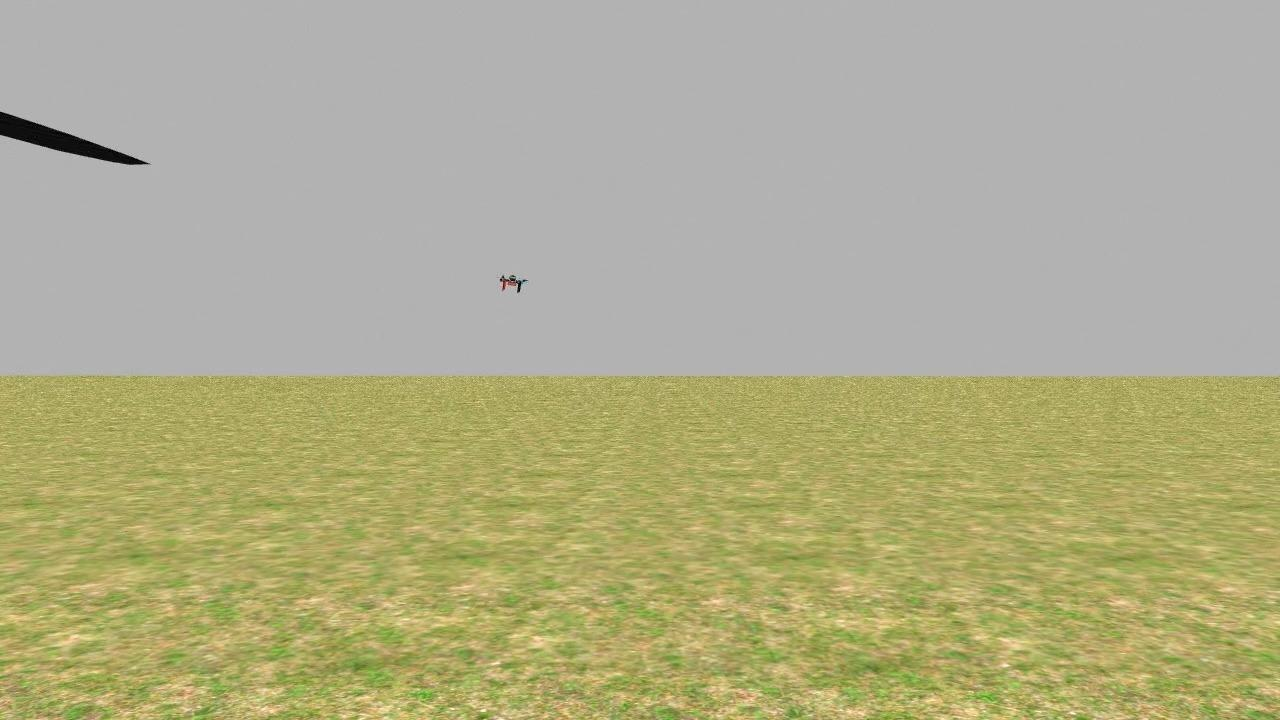UAV: (502, 266, 546, 304)
